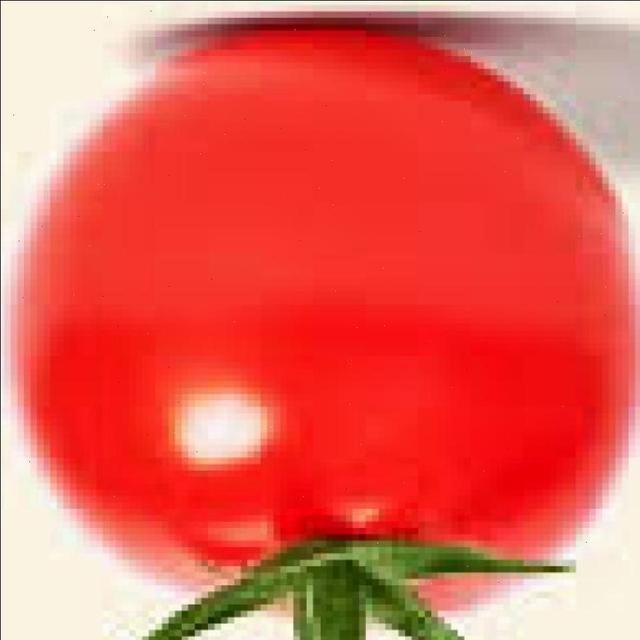Healthy Fruit: (9, 17, 427, 404)
